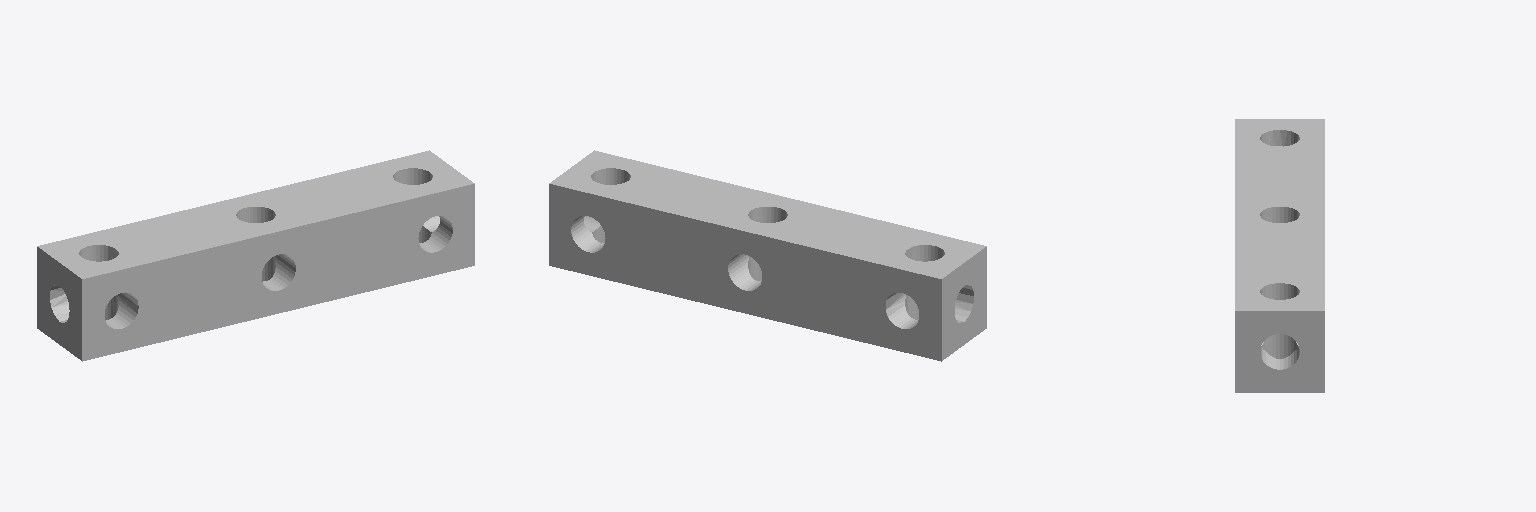
Rendered from HolzquaderL2.obj.
The picture shows the model from 3 angles: view 1: azimuth 30°, elevation 25°; view 2: azimuth 150°, elevation 25°; view 3: azimuth 270°, elevation 25°; orthographic projection.
Parts seen in each view (by area): view 1: Holzquader_L.002_Cube.022; view 2: Holzquader_L.002_Cube.022; view 3: Holzquader_L.002_Cube.022.
Boxes of the visible parts, x1=… form: Holzquader_L.002_Cube.022: x1=37, y1=150, x2=474, y2=361; Holzquader_L.002_Cube.022: x1=549, y1=150, x2=986, y2=361; Holzquader_L.002_Cube.022: x1=1235, y1=119, x2=1324, y2=392.
Size of the model in its own units: 2.67 by 0.5332 by 0.5332.